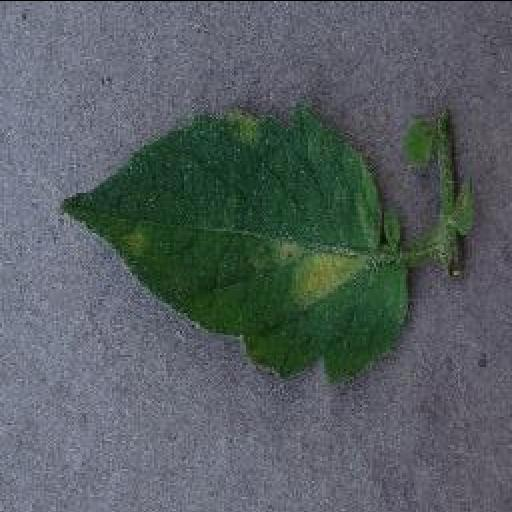disease_tomato: (55, 98, 413, 380)
